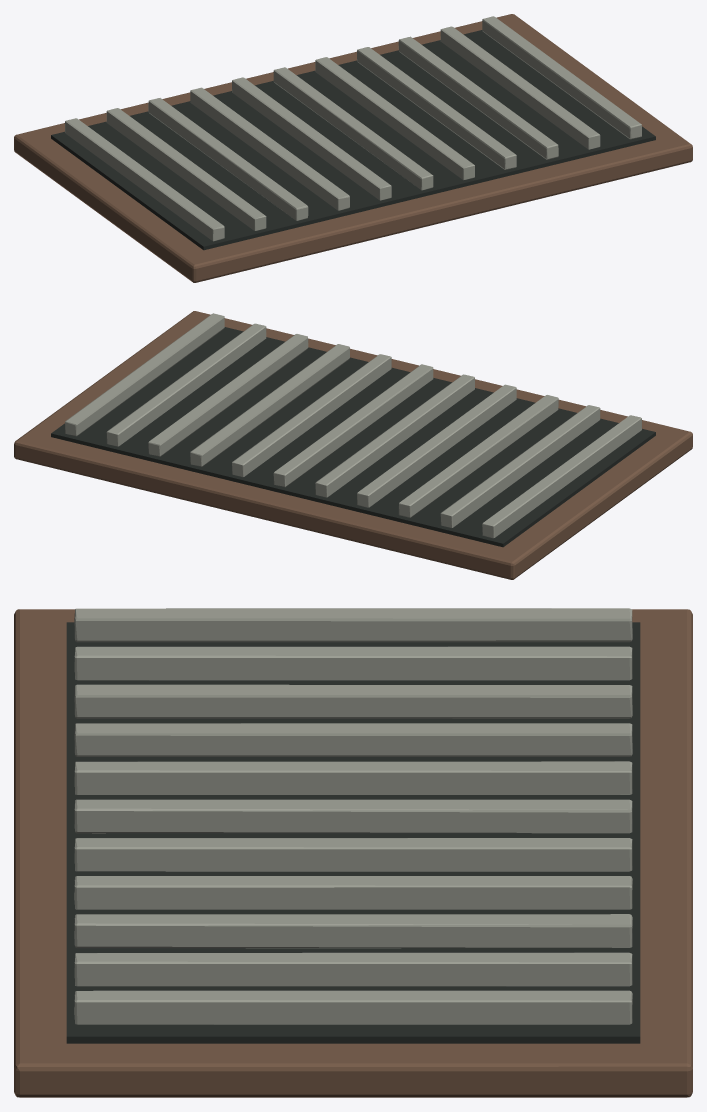
File: drain_low.glb
3 renders of one model, top to bottom at view 1: azimuth 30°, elevation 25°; view 2: azimuth 150°, elevation 25°; view 3: azimuth 270°, elevation 25°, orthographic. The views are drawn at different scales.
Parts seen in each view (by area): view 1: drain.001; view 2: drain.001; view 3: drain.001.
Boxes of the visible parts, x1,y1,x2,y2 form: drain.001: [14, 14, 692, 282]; drain.001: [14, 311, 692, 579]; drain.001: [14, 608, 692, 1097].
Size of the model in its own units: 0.72 by 0.0485 by 0.45.
